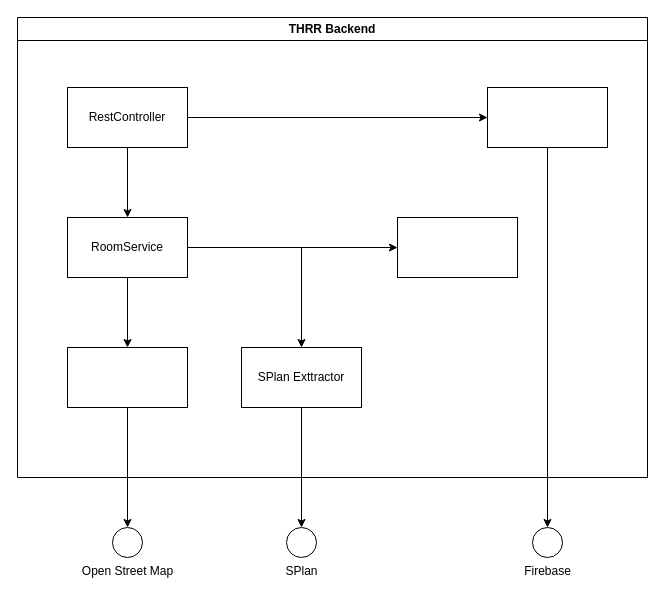
Image size: 665x596. Some labels were removed from this diagram. The shapes that lost their labels are listed below. From the top down, each one's centre as x and y in pixels, then its label:
[547,117]: Web Security
[457,247]: Caching Service
[127,377]: OSM Extractor
